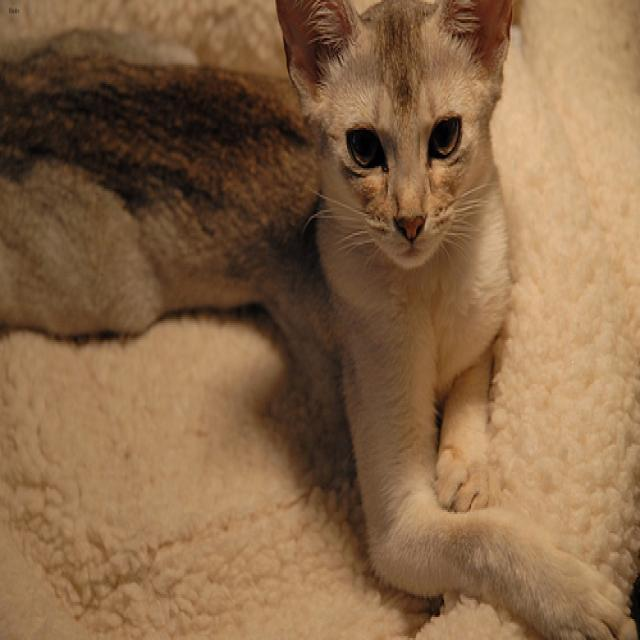Abyssinian: (267, 0, 518, 275)
